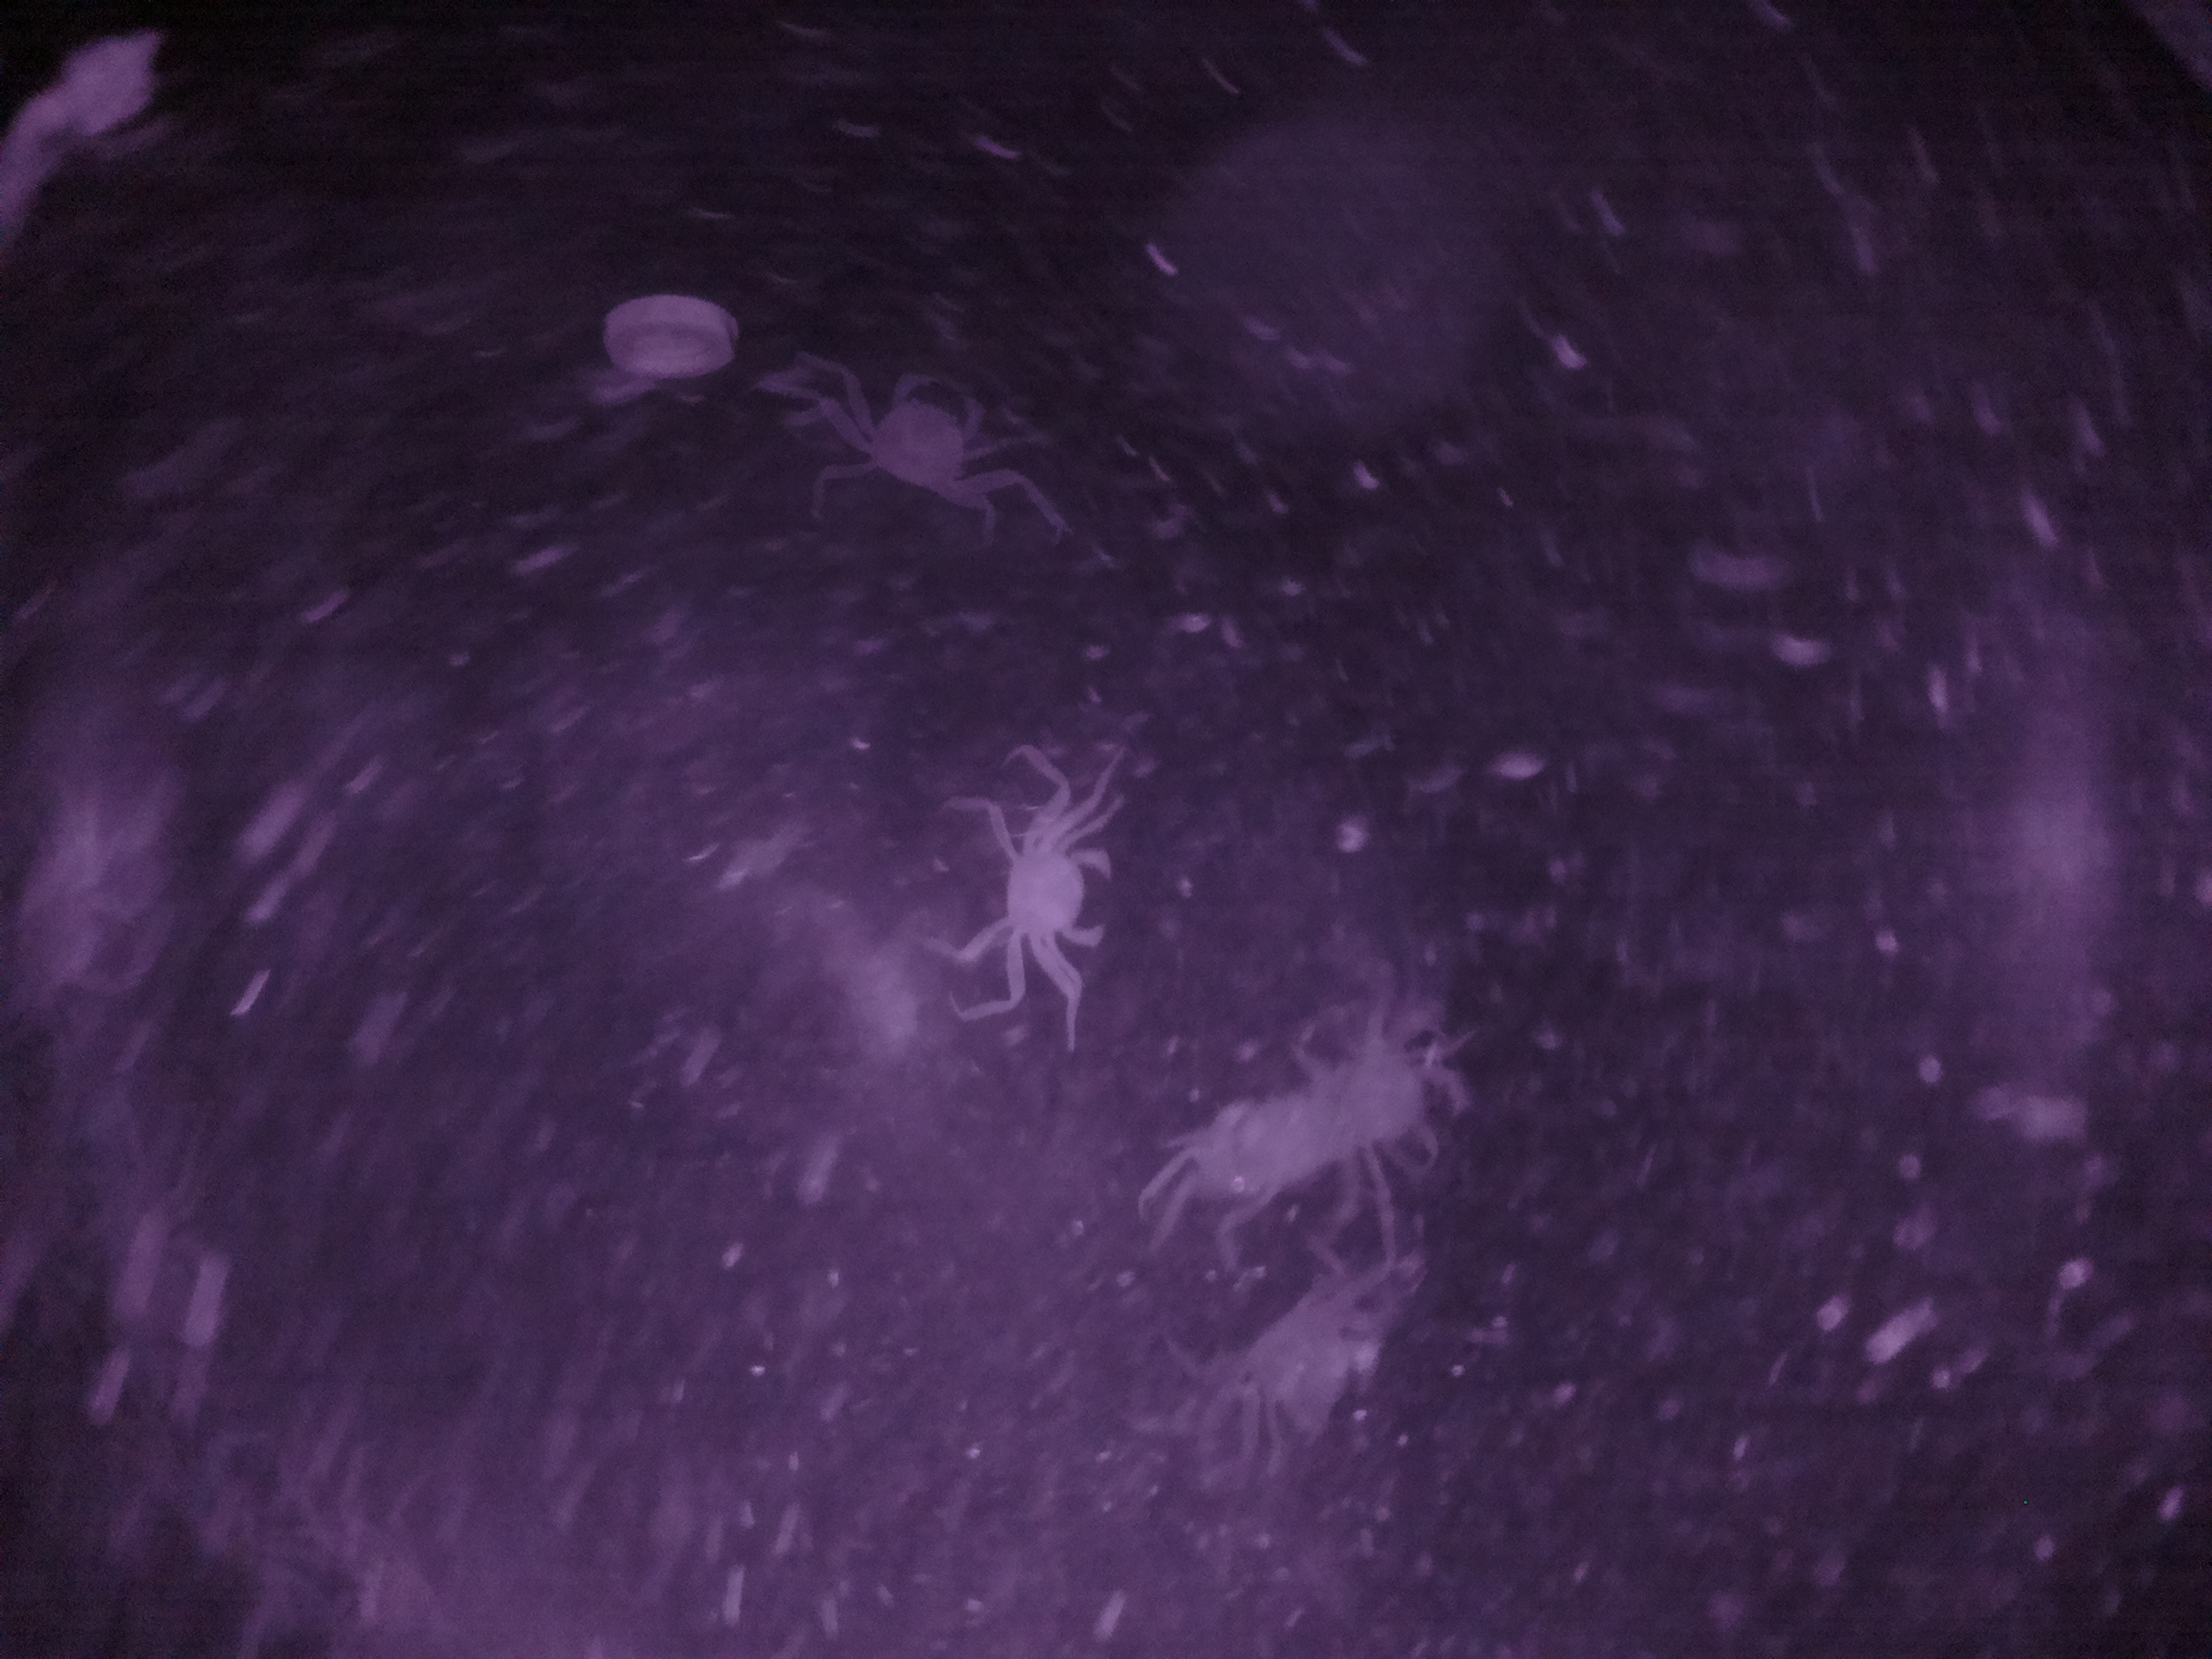Crab: (843, 347, 1035, 538), (977, 772, 1123, 999)
